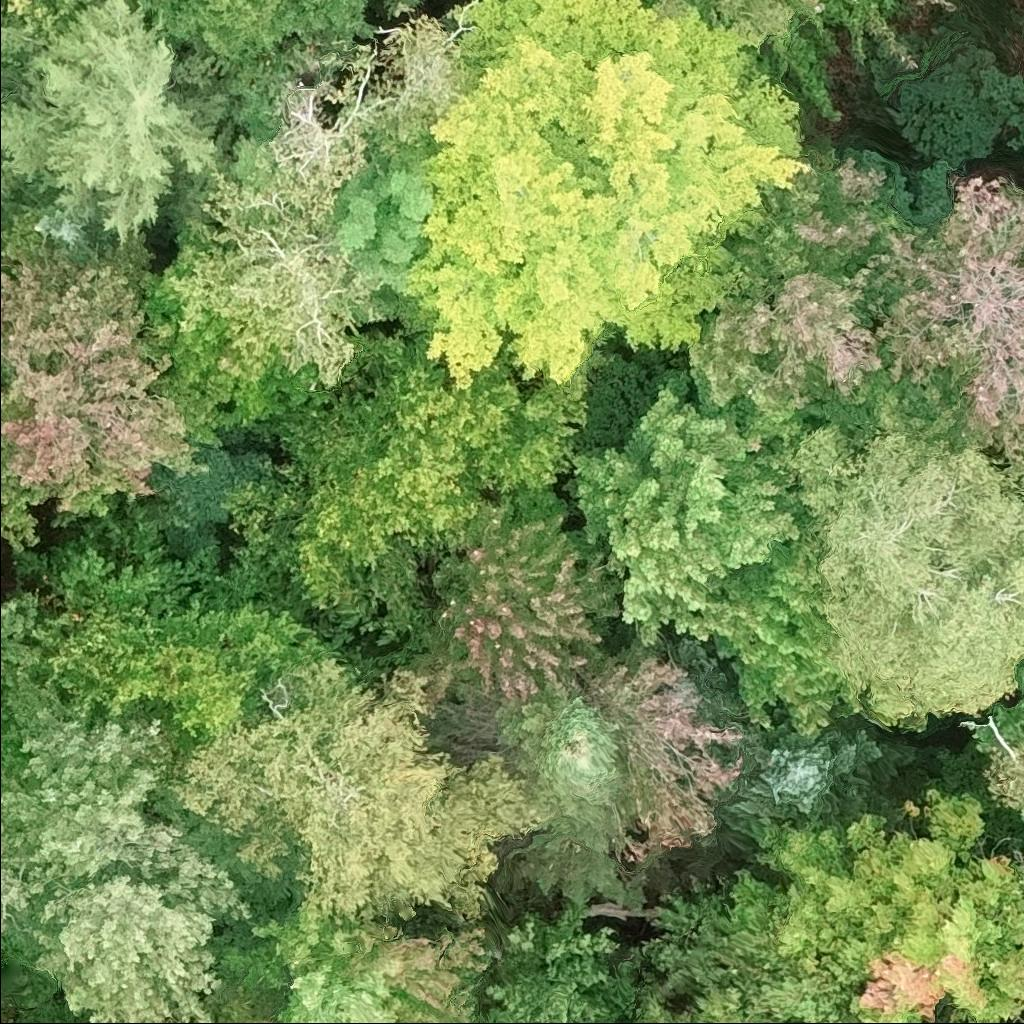crown: (397, 0, 816, 390), (225, 309, 616, 644), (562, 366, 871, 736), (150, 653, 538, 924), (0, 665, 259, 1023), (29, 501, 341, 758), (686, 154, 959, 445), (779, 418, 1023, 734), (727, 786, 1023, 1023), (0, 229, 216, 547), (0, 0, 231, 245), (849, 170, 1023, 460), (163, 176, 377, 398), (430, 487, 620, 705), (496, 679, 654, 906), (213, 899, 493, 1023), (579, 649, 748, 849), (141, 273, 312, 449), (643, 887, 858, 1023), (712, 707, 912, 844), (262, 39, 397, 223), (316, 136, 434, 289), (142, 0, 379, 72), (378, 2, 469, 152), (629, 628, 755, 728), (649, 0, 827, 42), (623, 984, 767, 1023), (31, 201, 113, 267), (982, 716, 1023, 828), (0, 586, 45, 673), (986, 940, 1023, 1004), (162, 1023, 173, 1023)
